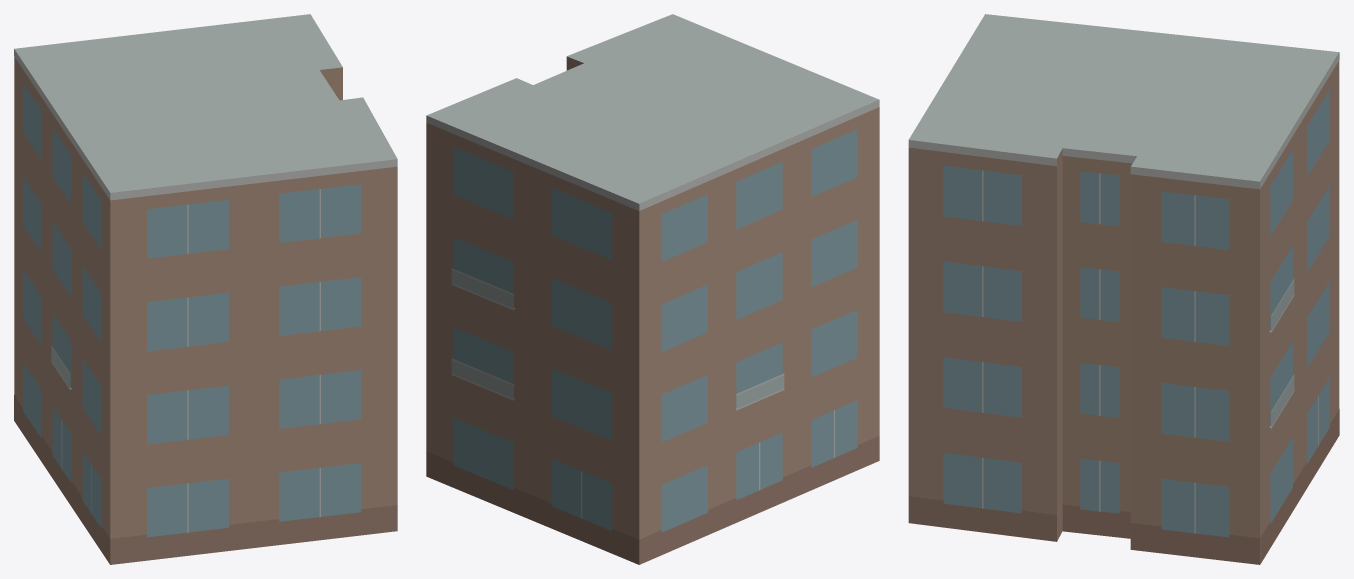
Rendered from survey-upis-33032095.glb.
The picture shows the model from 3 angles, left to right: view 1: azimuth 30°, elevation 25°; view 2: azimuth 150°, elevation 25°; view 3: azimuth 270°, elevation 25°; orthographic projection. The views are drawn at different scales.
Parts seen in each view (by area): view 1: survey-upis-33032095.tmp; view 2: survey-upis-33032095.tmp; view 3: survey-upis-33032095.tmp.
Boxes of the visible parts, left/top/right/bottom form: survey-upis-33032095.tmp: left=14, top=14, right=397, bottom=564; survey-upis-33032095.tmp: left=426, top=14, right=879, bottom=564; survey-upis-33032095.tmp: left=908, top=14, right=1339, bottom=564.
Size of the model in its own units: 11.46 by 12.2 by 12.44.
